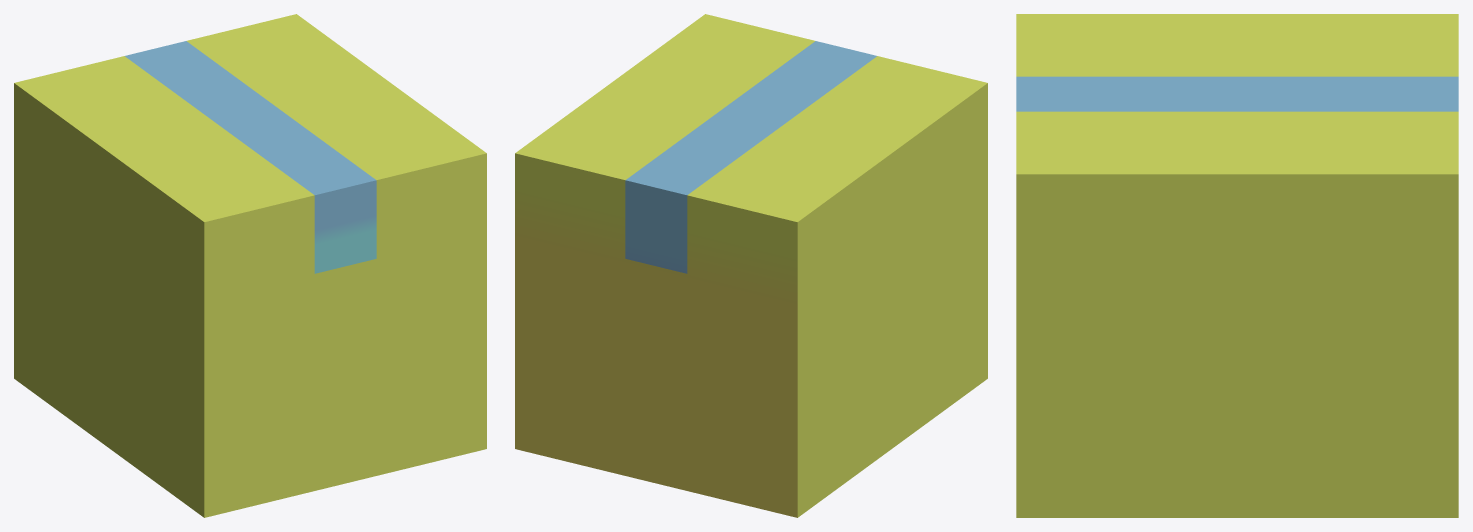
The model's file is Blue_Big_Box.fbx.
The picture shows the model from 3 angles, left to right: view 1: azimuth 30°, elevation 25°; view 2: azimuth 150°, elevation 25°; view 3: azimuth 270°, elevation 25°; orthographic projection. The views are drawn at different scales.
Parts seen in each view (by area): view 1: Blue_Big_Box; view 2: Blue_Big_Box; view 3: Blue_Big_Box.
Boxes of the visible parts, x1,y1,x2,y2 form: Blue_Big_Box: (14, 14, 486, 517); Blue_Big_Box: (515, 14, 987, 517); Blue_Big_Box: (1016, 14, 1458, 517).
Size of the model in its own units: 85.73 by 85.73 by 100.
